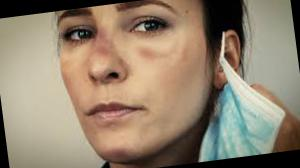without_mask: (55, 1, 194, 168)
